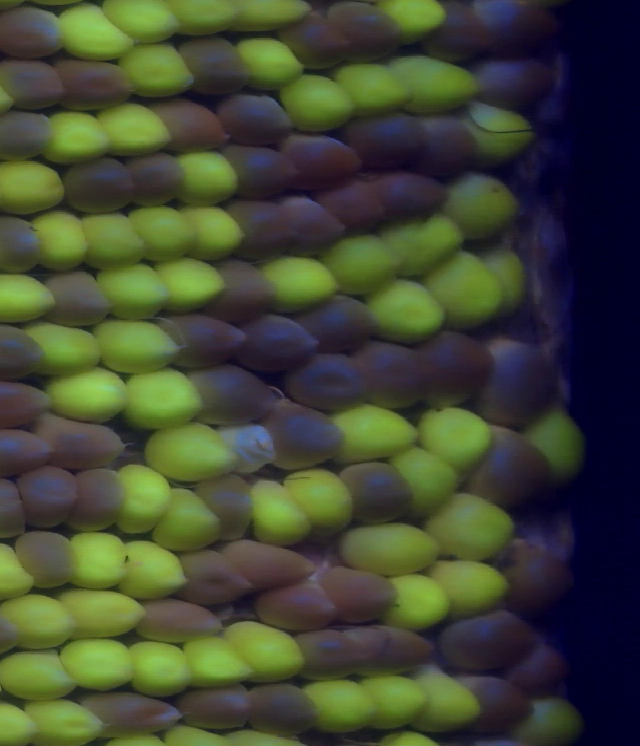fluorescent: (87, 317, 189, 378), (424, 257, 509, 330), (337, 519, 439, 578), (141, 424, 241, 484), (421, 498, 515, 560), (220, 619, 307, 684), (392, 50, 481, 113), (521, 410, 590, 487), (118, 368, 208, 427), (258, 255, 343, 316), (284, 472, 360, 540), (322, 237, 404, 297), (119, 40, 202, 99), (44, 368, 128, 426), (416, 665, 480, 741), (363, 285, 446, 343), (333, 407, 420, 462), (415, 408, 492, 470), (467, 98, 539, 164), (94, 261, 177, 318), (57, 3, 138, 61), (59, 637, 139, 694), (91, 105, 173, 160), (21, 320, 106, 373), (122, 203, 202, 259), (445, 173, 519, 233), (392, 445, 457, 512), (249, 479, 313, 547), (231, 35, 307, 92), (428, 560, 505, 616), (19, 696, 105, 746), (64, 531, 133, 593), (152, 490, 221, 552), (153, 256, 228, 313), (380, 220, 465, 270), (62, 588, 141, 641), (334, 61, 413, 114), (0, 594, 73, 650), (117, 464, 173, 537), (303, 681, 380, 733), (282, 76, 354, 131), (364, 674, 431, 733), (42, 108, 116, 161), (81, 204, 144, 266), (477, 250, 534, 318), (180, 638, 258, 687), (100, 1, 190, 43), (32, 210, 91, 274), (0, 161, 71, 213), (127, 639, 190, 696), (117, 543, 185, 595), (0, 653, 80, 696), (184, 205, 248, 256), (178, 154, 241, 205), (0, 272, 61, 324), (517, 699, 584, 746), (384, 576, 447, 625), (376, 1, 452, 41), (161, 1, 251, 34), (0, 539, 36, 605), (236, 1, 313, 28), (0, 701, 32, 746)
nonfluorescent: (478, 337, 558, 432), (464, 428, 548, 514), (410, 332, 490, 418), (350, 338, 439, 415), (186, 359, 275, 432), (36, 409, 134, 472), (267, 399, 352, 470), (497, 539, 573, 614), (342, 114, 436, 174), (218, 196, 298, 264), (272, 191, 348, 261), (291, 349, 368, 418), (345, 621, 436, 678), (238, 314, 323, 375), (211, 258, 285, 327), (433, 619, 533, 670), (78, 690, 186, 737), (190, 472, 262, 542), (60, 158, 145, 217), (224, 537, 316, 591), (281, 132, 364, 190), (13, 463, 83, 531), (133, 593, 228, 643), (51, 54, 137, 109), (319, 567, 402, 623), (338, 463, 417, 521), (472, 54, 558, 107), (154, 94, 228, 155), (45, 270, 119, 331), (252, 583, 343, 632), (292, 629, 373, 684), (219, 142, 297, 199), (177, 35, 247, 97), (460, 671, 532, 731), (329, 3, 408, 56), (0, 54, 67, 116), (174, 686, 260, 734), (217, 91, 294, 144), (483, 1, 559, 54), (68, 467, 129, 533), (421, 108, 479, 177), (154, 315, 241, 361), (306, 297, 377, 353), (280, 16, 354, 69), (180, 554, 253, 607), (317, 183, 388, 237), (125, 151, 187, 212), (11, 533, 77, 590), (501, 644, 568, 699), (365, 171, 447, 215), (428, 3, 484, 61), (251, 690, 326, 733), (0, 9, 62, 60), (0, 110, 56, 163), (0, 426, 59, 476), (0, 320, 47, 381), (0, 213, 44, 278), (0, 378, 54, 428), (0, 477, 31, 549)
